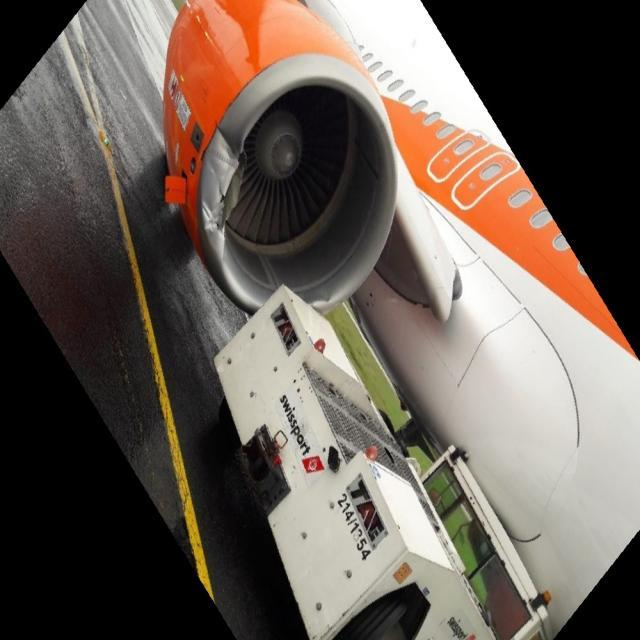crack: (210, 155, 248, 236)
dent: (302, 287, 342, 317), (217, 128, 247, 162), (206, 208, 221, 232)
